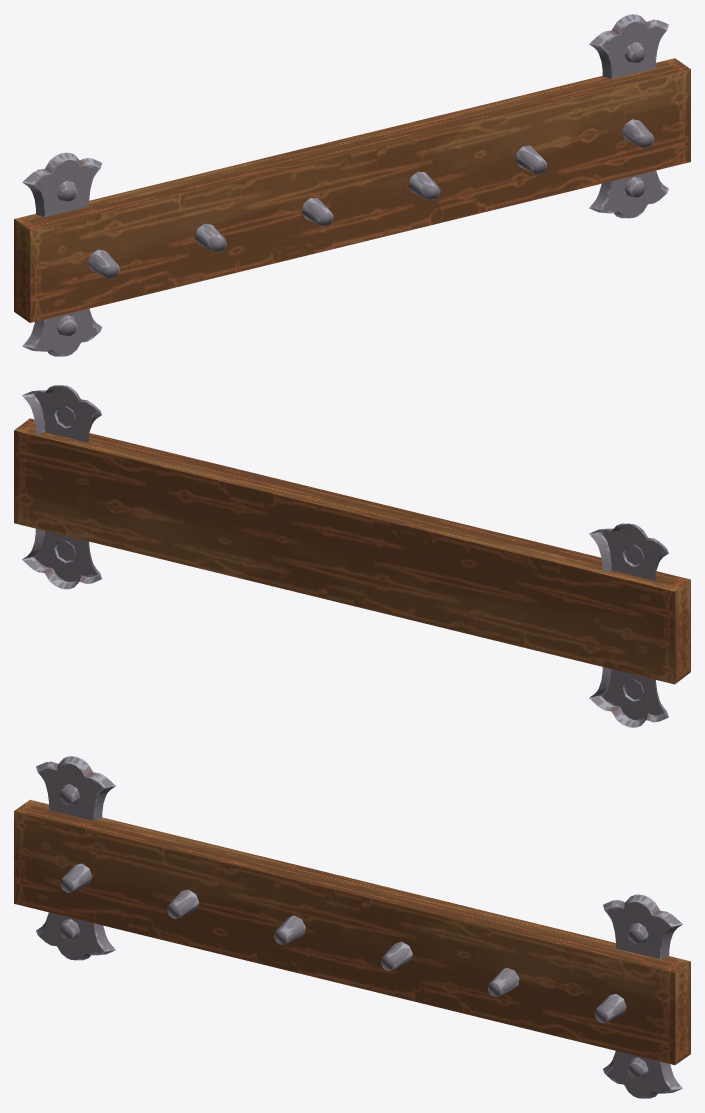
The model's file is Peg_Rack.gltf.
3 views of the same model, one above another, from view 1: azimuth 30°, elevation 25°; view 2: azimuth 150°, elevation 25°; view 3: azimuth 330°, elevation 25° (orthographic).
Parts seen in each view (by area): view 1: Peg_Rack; view 2: Peg_Rack; view 3: Peg_Rack.
Boxes of the visible parts, left/top/right/bottom form: Peg_Rack: left=14, top=14, right=690, bottom=356; Peg_Rack: left=14, top=385, right=690, bottom=727; Peg_Rack: left=14, top=756, right=690, bottom=1098.
Size of the model in its own units: 1.18 by 0.3479 by 0.0957.
Materials: 2 (2 with a texture image).
